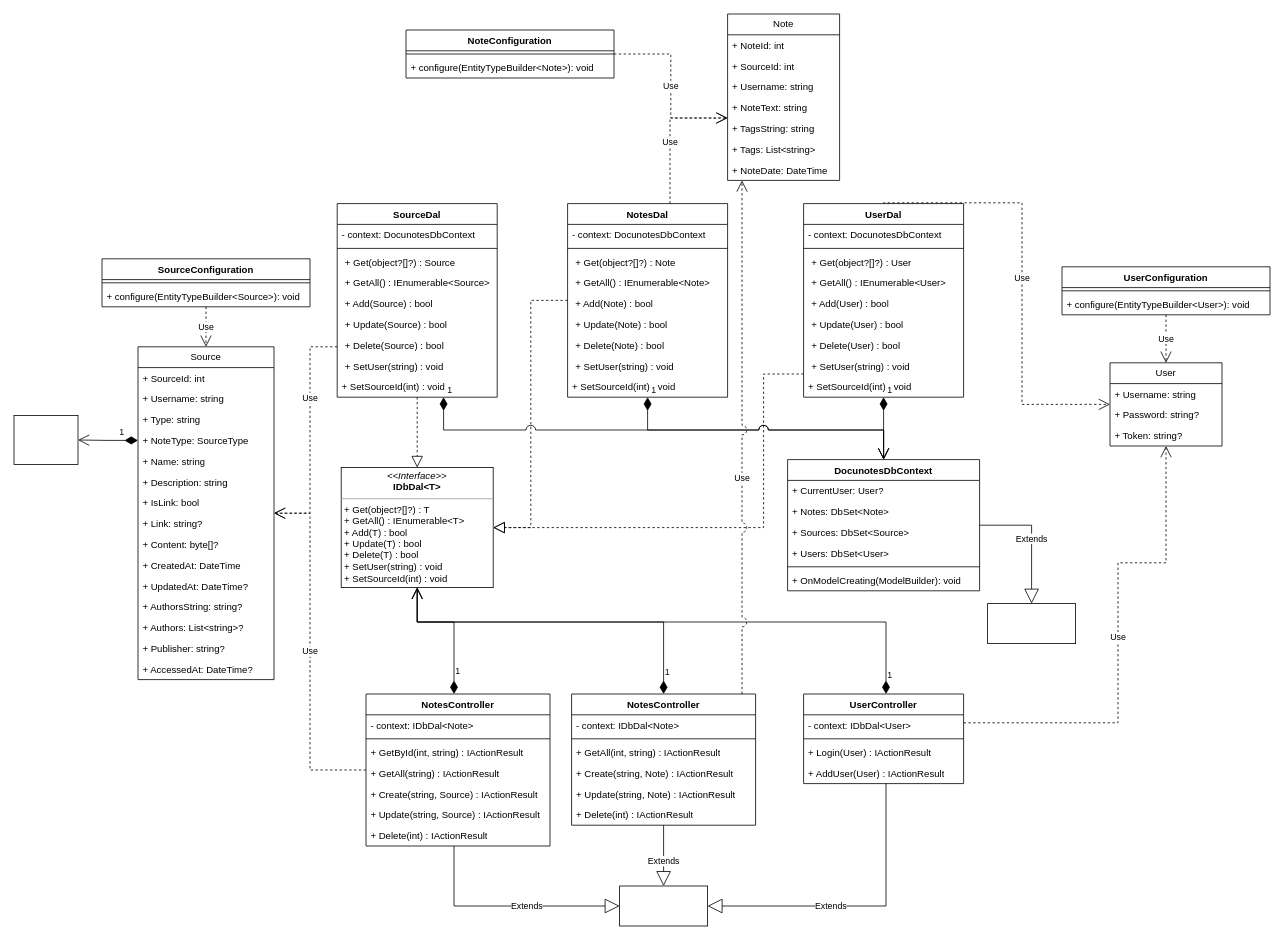
The diagram is 1284 pixels wide and 940 high, and some of its shapes have lost their labels. The shapes that lost their labels are listed below. From the top down, each one's centre as x and y in pixels, then its label:
point (45, 439): SourceType Pdf = 1 Vid = 2
point (1031, 623): DbContext
point (663, 905): ControllerBase
